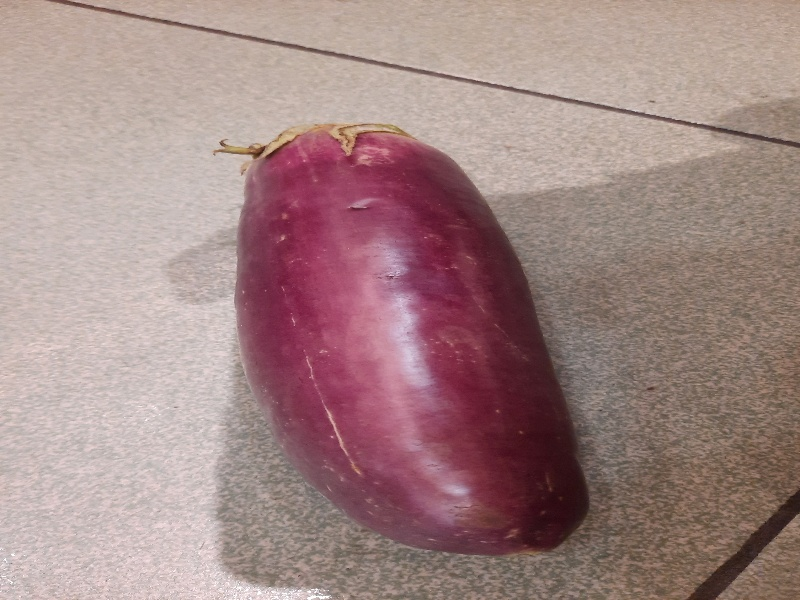vege: (210, 108, 613, 573)
